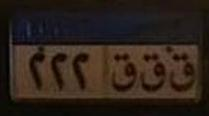2: (48, 49, 69, 94), (71, 52, 90, 91), (29, 51, 46, 92)
qaaf: (109, 52, 138, 94), (139, 51, 167, 93), (169, 52, 196, 94)
